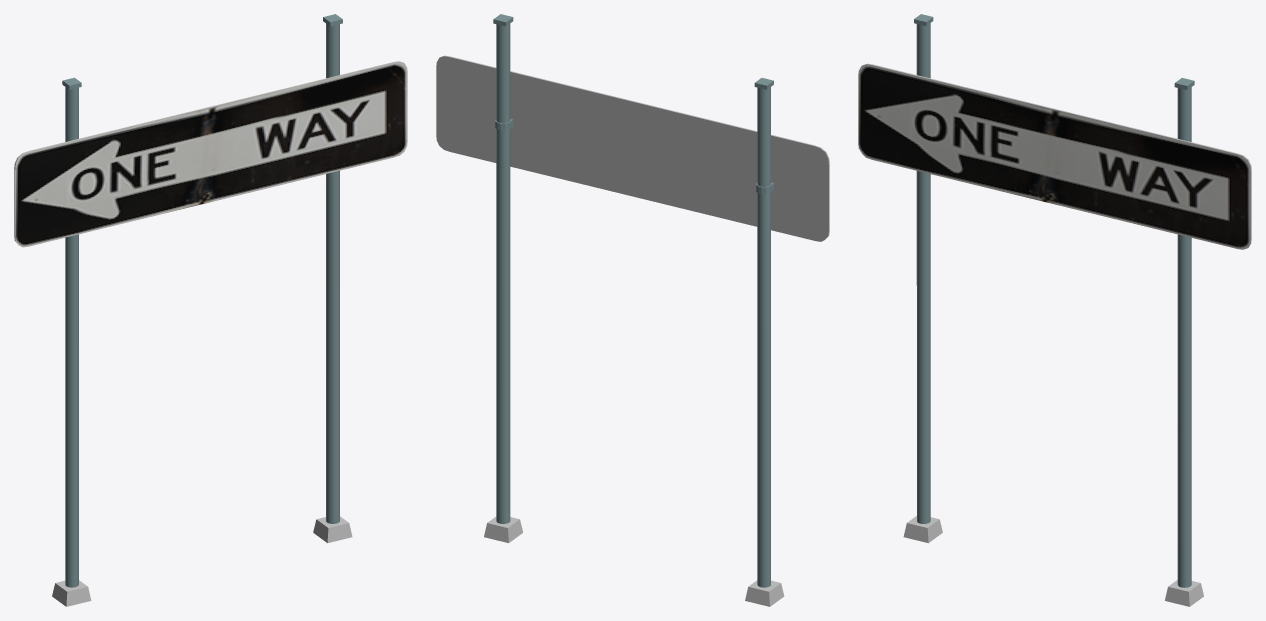
File: Oneway-Left.fbx
3 views of the same model, side by side, from view 1: azimuth 30°, elevation 25°; view 2: azimuth 150°, elevation 25°; view 3: azimuth 330°, elevation 25° (orthographic).
Visible parts, largest first — view 1: oneway; view 2: oneway; view 3: oneway.
Boxes of the visible parts, box(x1,y1,x2,y2) form: oneway: box(14, 14, 407, 606); oneway: box(436, 14, 829, 606); oneway: box(858, 14, 1251, 606).
Bounding box in the file's own units: 2.24 × 2.81 × 0.1425.
